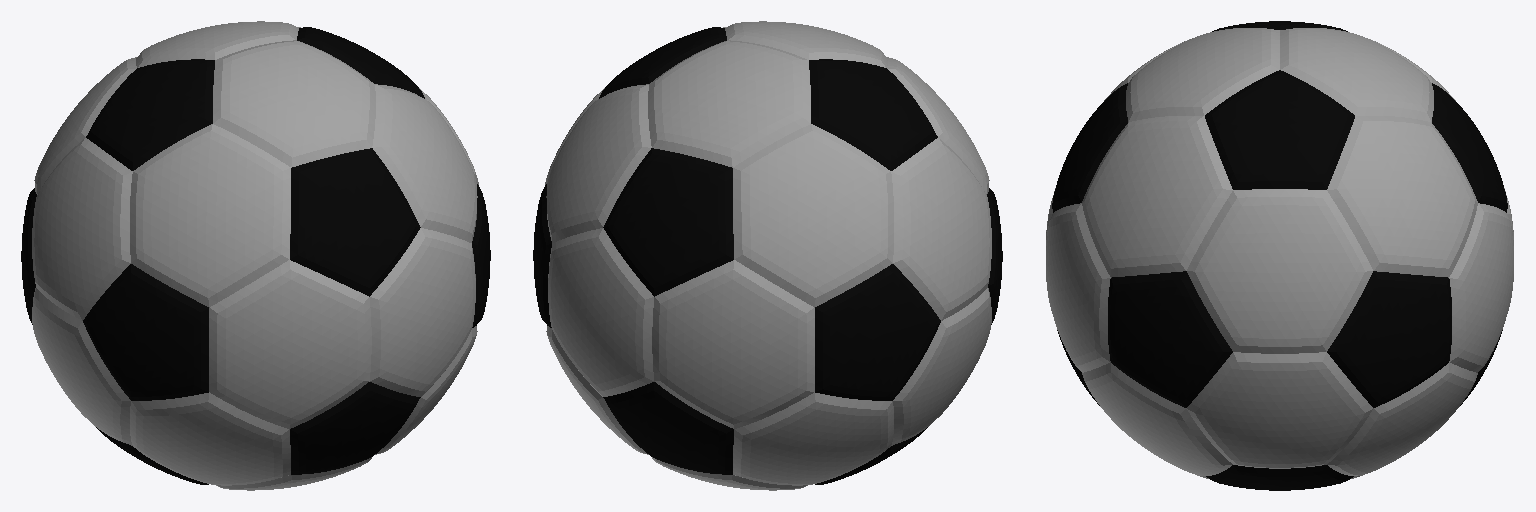
Rendered from visual_ball_only.obj.
The picture shows the model from 3 angles: view 1: azimuth 30°, elevation 25°; view 2: azimuth 150°, elevation 25°; view 3: azimuth 270°, elevation 25°; orthographic projection.
Parts seen in each view (by area): view 1: visual_ball; view 2: visual_ball; view 3: visual_ball.
Boxes of the visible parts, x1,y1,x2,y2 form: visual_ball: [21, 21, 490, 490]; visual_ball: [533, 21, 1002, 490]; visual_ball: [1046, 21, 1513, 490].
Bounding box in the file's own units: 1.92 × 1.92 × 1.92.